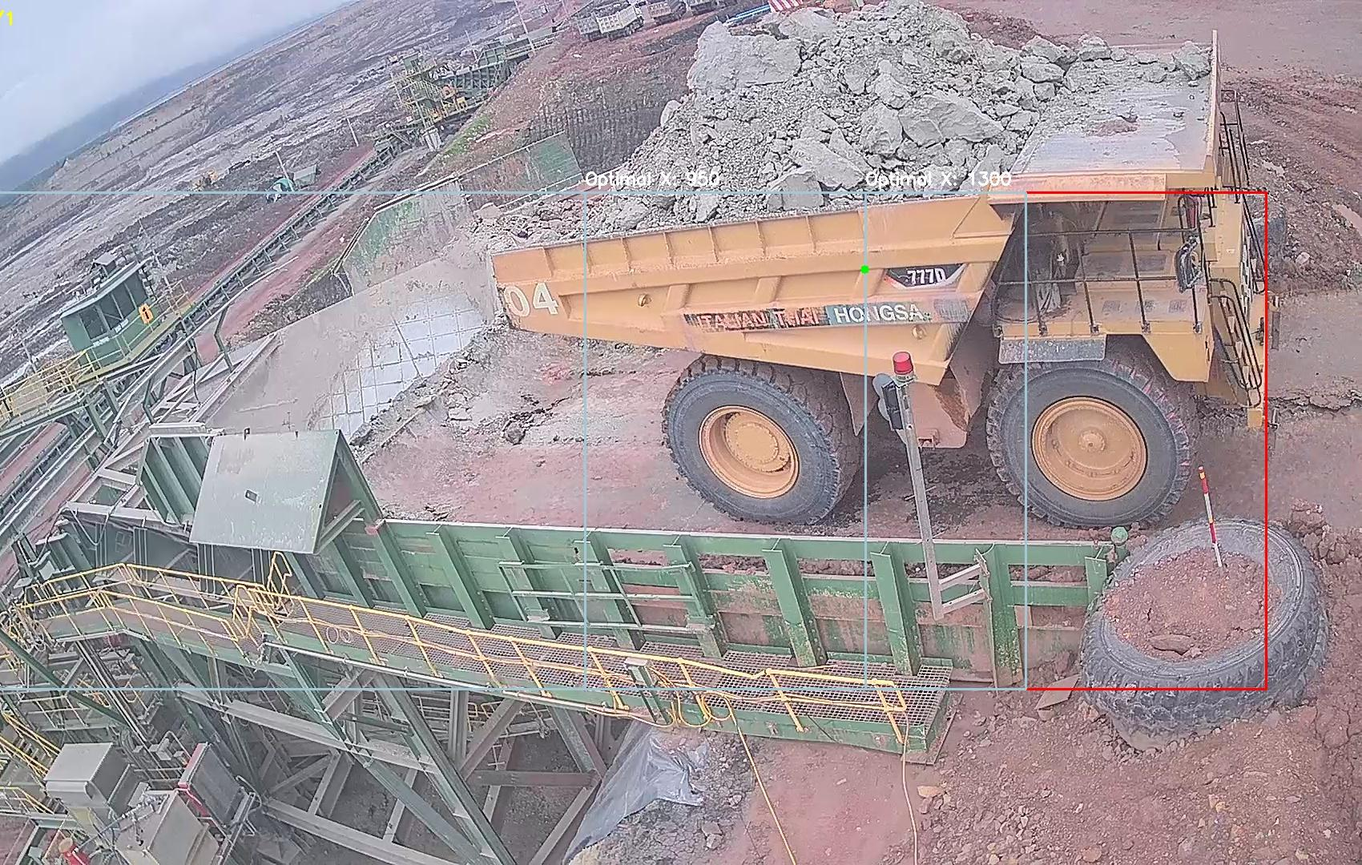company: (671, 296, 943, 339)
full_load: (651, 7, 1029, 227)
mining_truck: (476, 2, 1285, 533)
tail_number: (496, 270, 575, 332)
truck_size: (873, 259, 973, 292)
